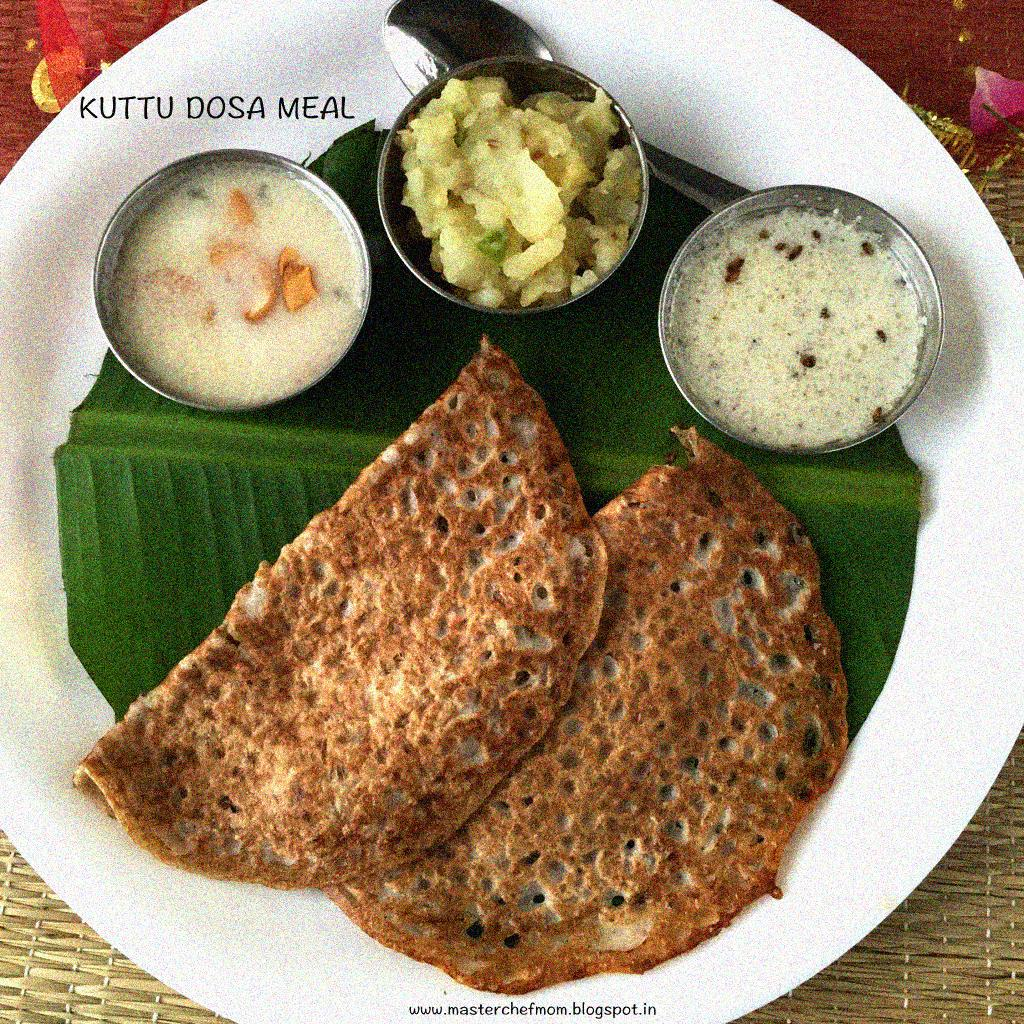dosa: (77, 340, 612, 893), (332, 444, 855, 1001)
